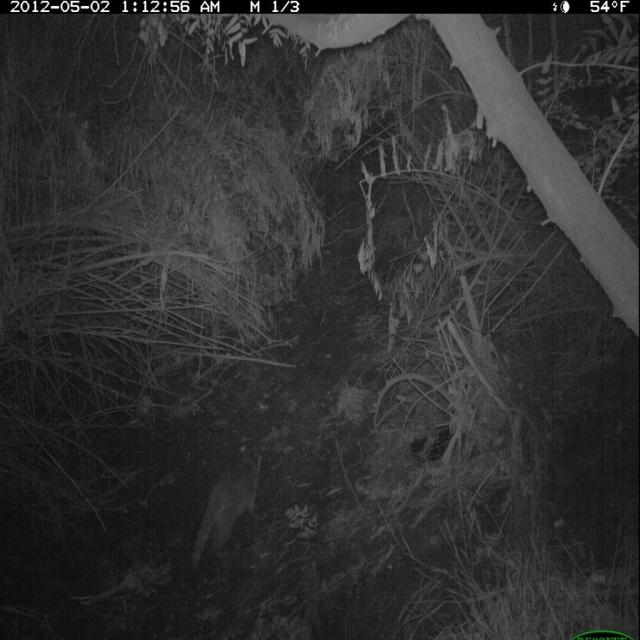raccoon: (188, 448, 274, 590)
